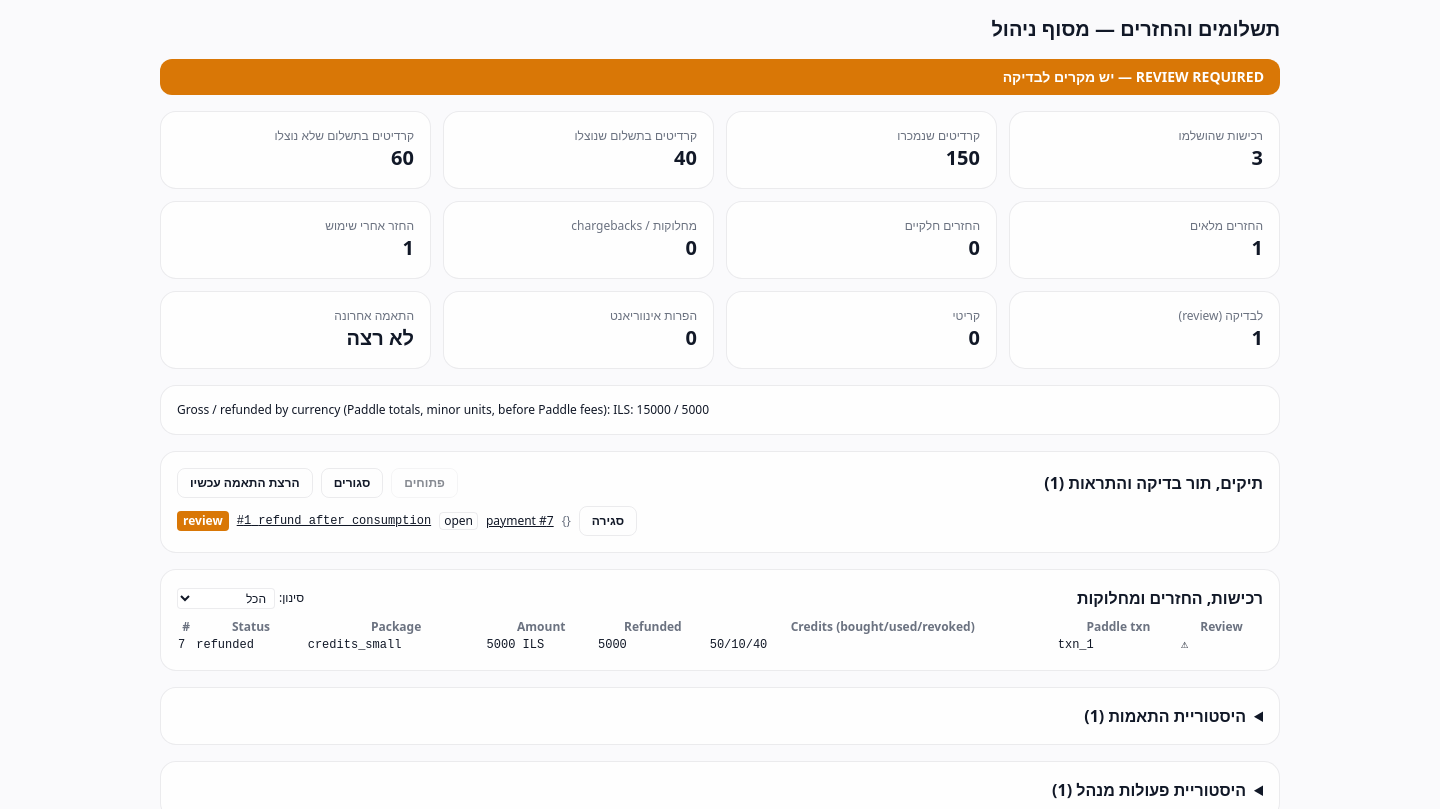
Test: a case opens with its auto-generated draft, notes and history; there is no send button
Click the button "#1 refund_after_consumption" at (334, 521), box left=237, top=513, right=431, bottom=529
(page scrolled)
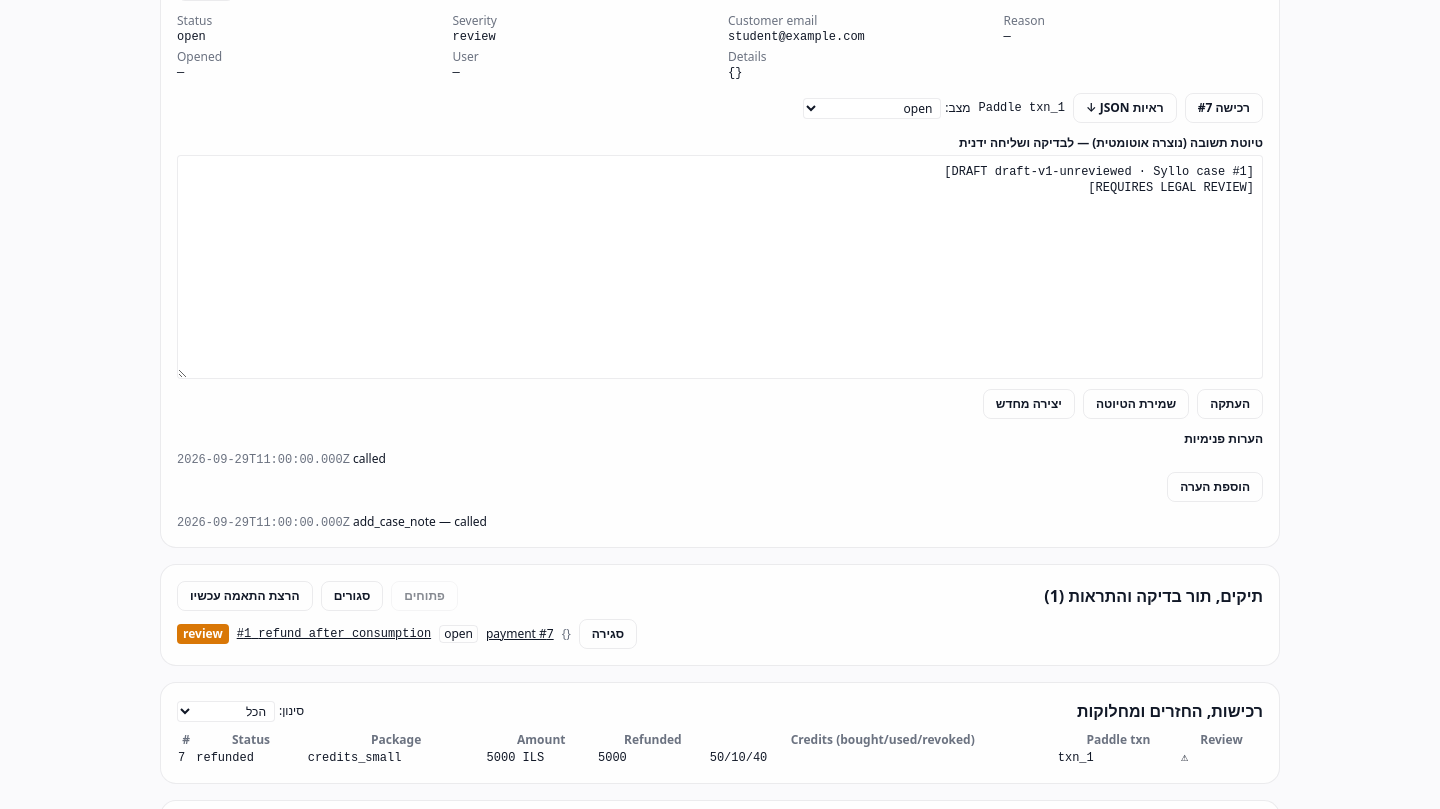
Now the element with test id "case-detail" shows "student@example.com", box left=728, top=30, right=865, bottom=44
Now the element with test id "case-detail" shows "called", box left=353, top=450, right=386, bottom=467
Now the button "העתקה" is shown, box left=1197, top=389, right=1263, bottom=419
